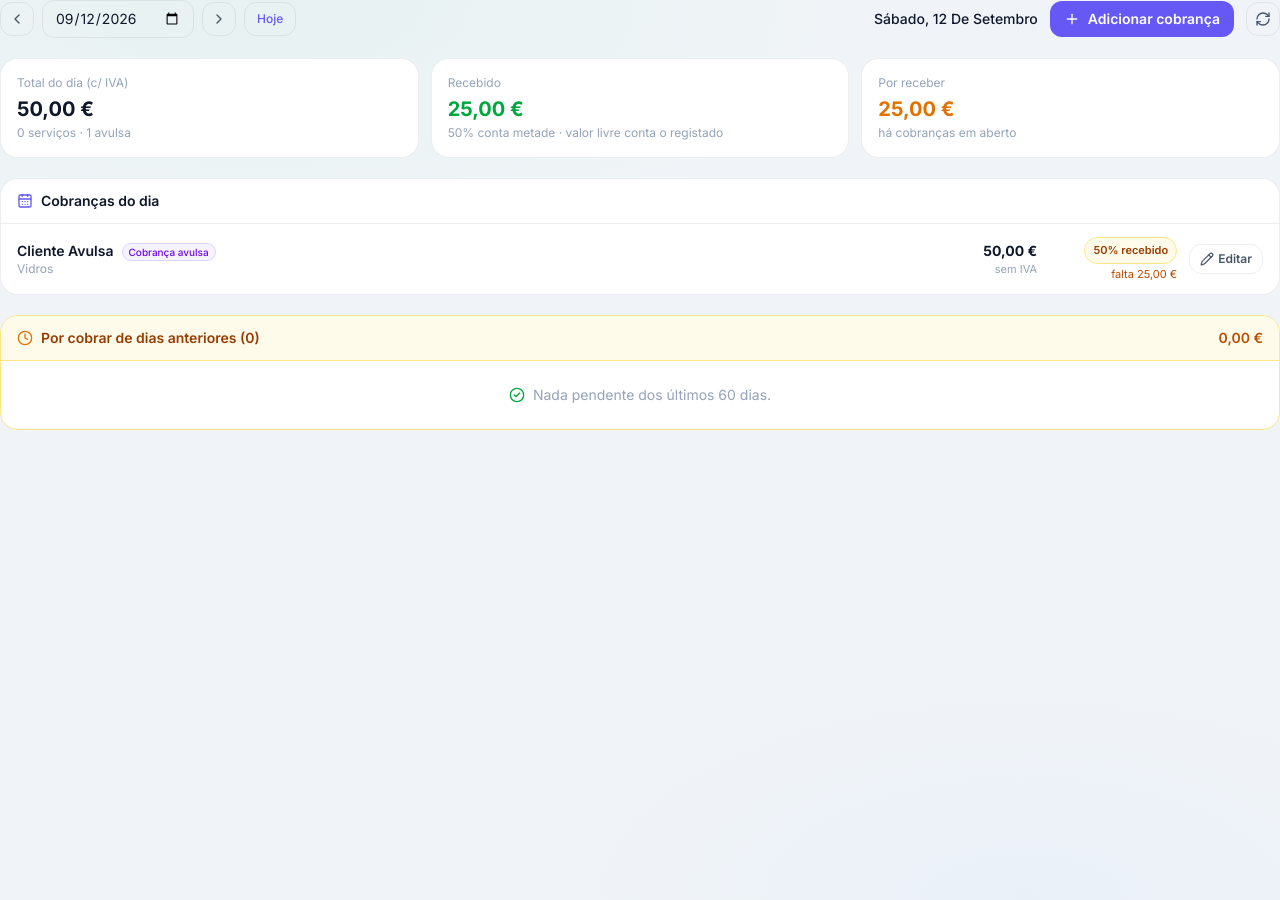
Test: o editor — recebimento pela RPC do tipo certo › 🔴 avulsa com recebimento: valor, IVA e cliente bloqueados no formulário
Click the button "Editar" at (1226, 259), box [1189,244,1263,274]
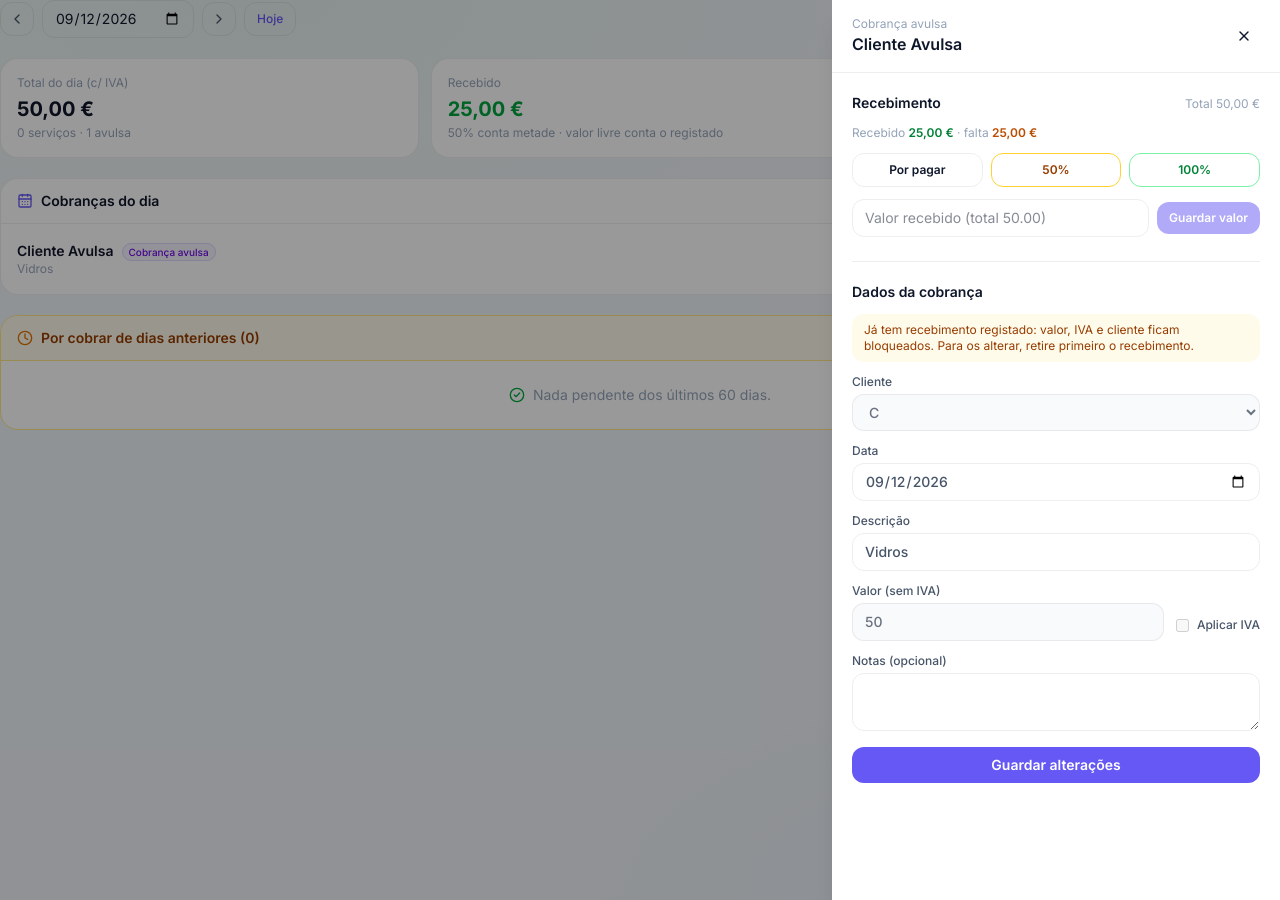
Expected: the dialog shows "valor, IVA e cliente ficam bloqueados", [864,322,1194,353]
Expected: the dropdown labelled "Cliente" is disabled, [852,394,1260,431]
Expected: the checkbox labelled "Aplicar IVA" is disabled, [1176,618,1189,632]
